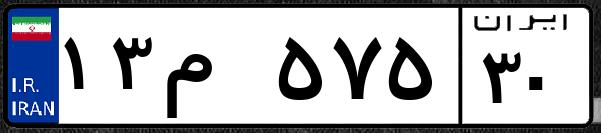0: (525, 38, 570, 115)
1: (57, 26, 110, 100)
3: (475, 38, 525, 113), (110, 28, 158, 98)
5: (270, 28, 330, 110), (385, 28, 445, 110)
7: (330, 28, 385, 110)
م: (158, 20, 270, 120)
